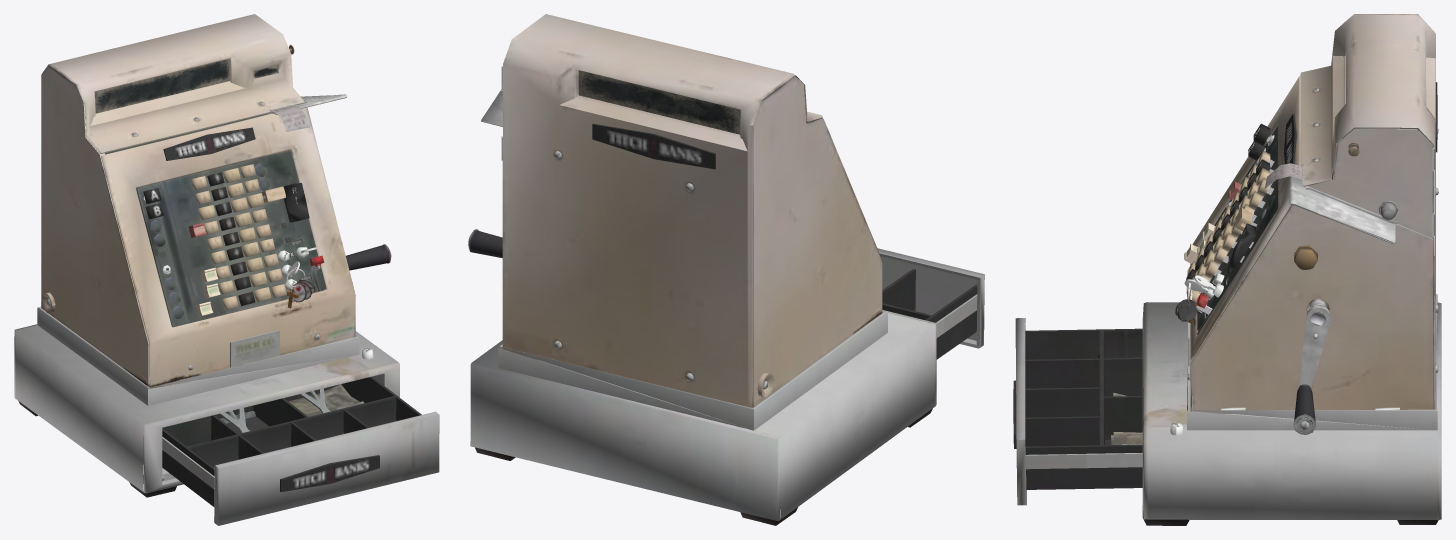
The model's file is cash_register.glb.
3 renders of one model, left to right at view 1: azimuth 30°, elevation 25°; view 2: azimuth 150°, elevation 25°; view 3: azimuth 270°, elevation 25°, orthographic. The views are drawn at different scales.
Parts seen in each view (by area): view 1: cash_register; view 2: cash_register; view 3: cash_register.
Part boxes in pixels (x1=…): cash_register: x1=14, y1=14, x2=439, y2=525; cash_register: x1=468, y1=14, x2=984, y2=525; cash_register: x1=1013, y1=14, x2=1441, y2=525.
Bounding box in the file's own units: 0.599 × 0.621 × 0.6229.
2 materials, 2 textured.
